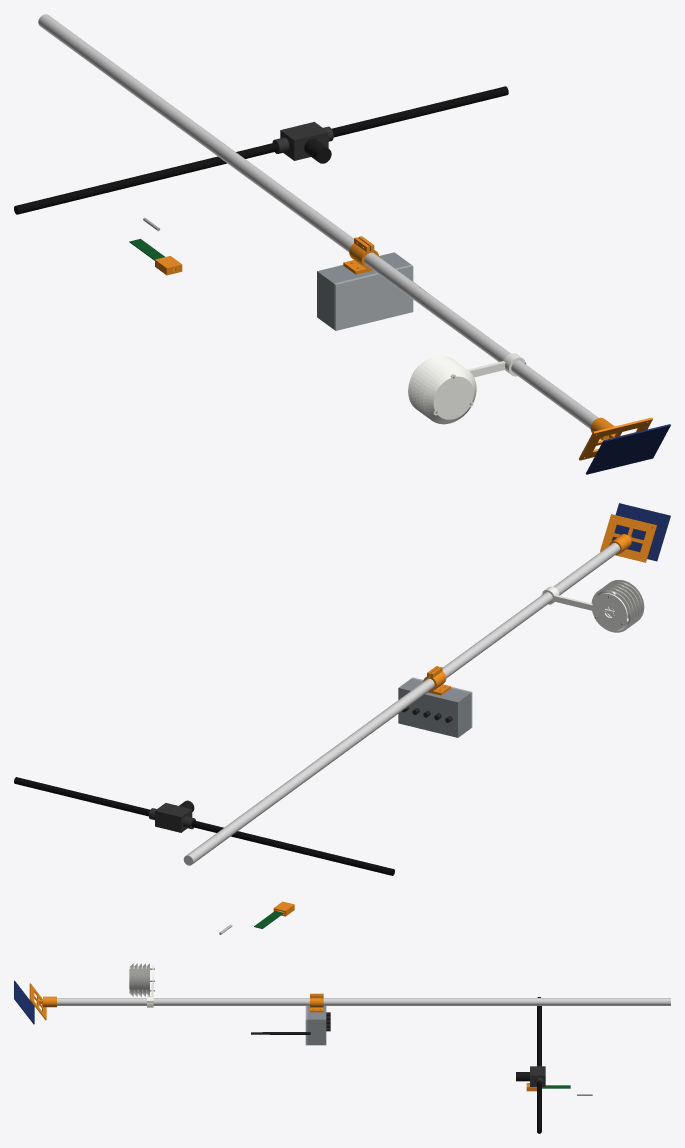
Rendered from assembly.obj.
3 renders of one model, top to bottom at view 1: azimuth 30°, elevation 25°; view 2: azimuth 150°, elevation 25°; view 3: azimuth 270°, elevation 25°, orthographic. The views are drawn at different scales.
Parts seen in each view (by area): view 1: pole_pvc_25mm, drip_line_16mm, ip65_box_lid, shield_top, solar_panel_6v, ip65_box, valve_9v_latching, panel_bracket; view 2: pole_pvc_25mm, ip65_box, drip_line_16mm, solar_panel_6v, panel_bracket, shield_base_arm, valve_9v_latching; view 3: pole_pvc_25mm, ip65_box, drip_line_16mm, panel_bracket, solar_panel_6v, valve_9v_latching.
Part boxes in pixels (x1,y1,x2,y2): pole_pvc_25mm: (38, 14, 598, 428); drip_line_16mm: (14, 86, 508, 214); ip65_box_lid: (334, 264, 413, 330); shield_top: (422, 366, 476, 424); solar_panel_6v: (586, 424, 670, 474); ip65_box: (317, 252, 410, 329); valve_9v_latching: (272, 122, 333, 160); panel_bracket: (579, 417, 652, 460); pole_pvc_25mm: (183, 543, 620, 865); ip65_box: (398, 678, 470, 737); drip_line_16mm: (14, 777, 394, 875); solar_panel_6v: (612, 503, 670, 561); panel_bracket: (600, 514, 656, 562); shield_base_arm: (541, 586, 627, 630); valve_9v_latching: (148, 803, 195, 832); pole_pvc_25mm: (57, 998, 670, 1005); ip65_box: (307, 1006, 326, 1045); drip_line_16mm: (537, 997, 541, 1133); panel_bracket: (29, 983, 56, 1020); solar_panel_6v: (14, 980, 34, 1024); valve_9v_latching: (530, 1065, 545, 1086).
Size of the model in its own units: 1000 by 362 by 2096.
